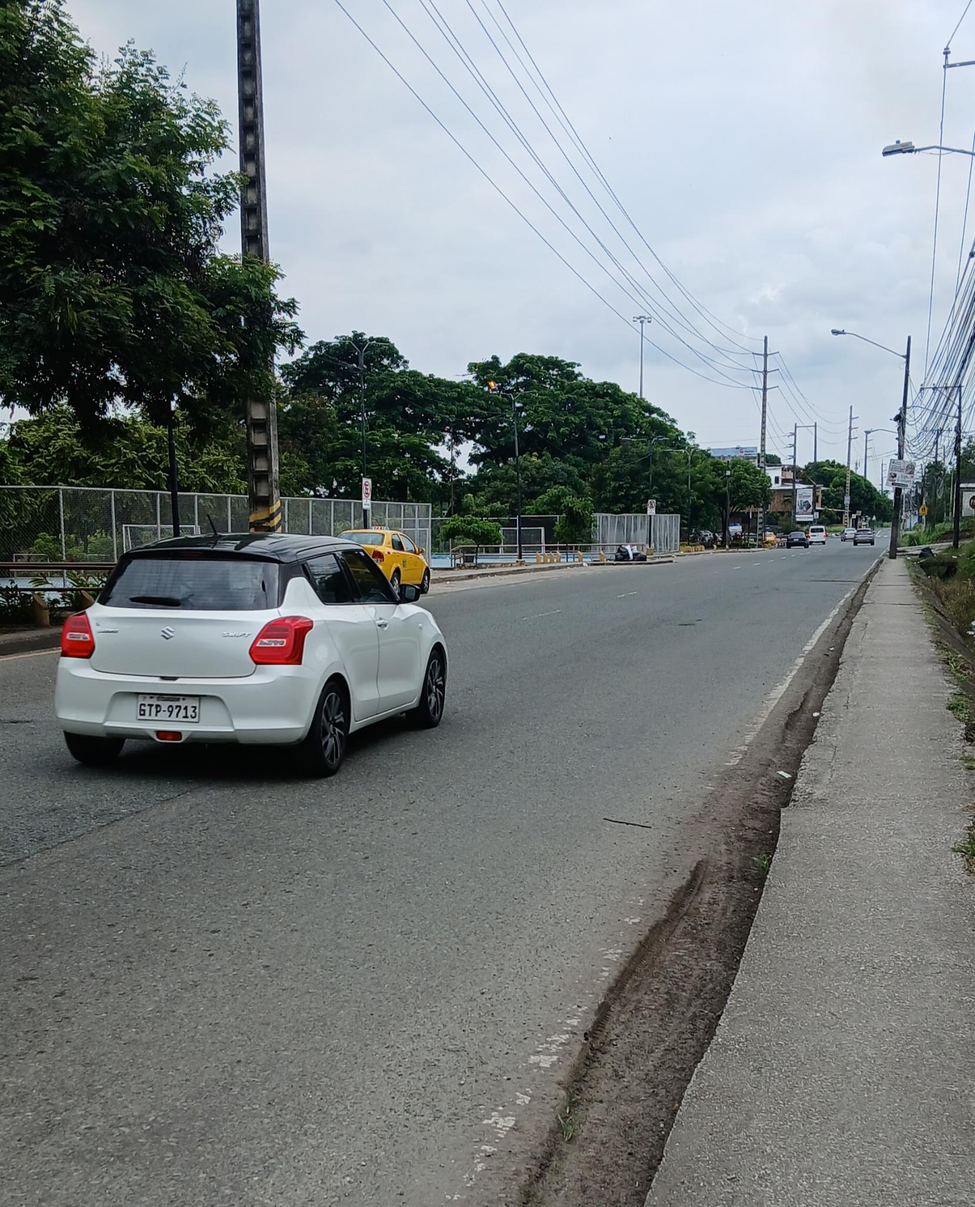license_plate: (135, 695, 201, 723)
